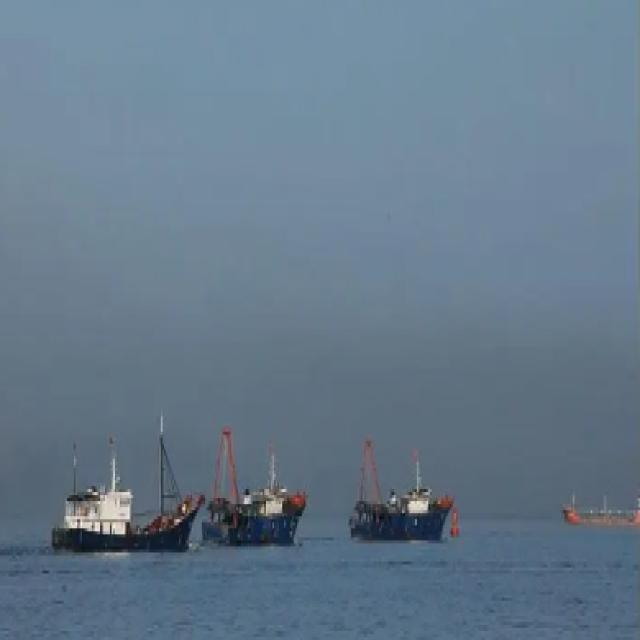cargoship: (63, 408, 208, 551), (196, 422, 308, 543), (346, 437, 456, 545), (563, 476, 640, 529)
